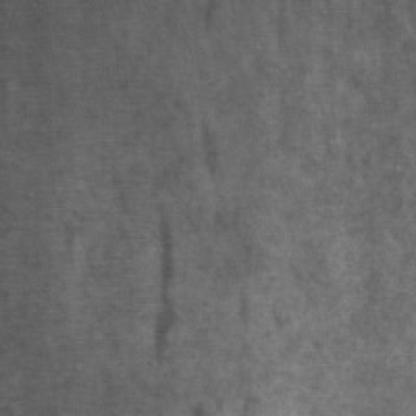inclusion: (142, 192, 189, 370), (193, 106, 237, 187)
